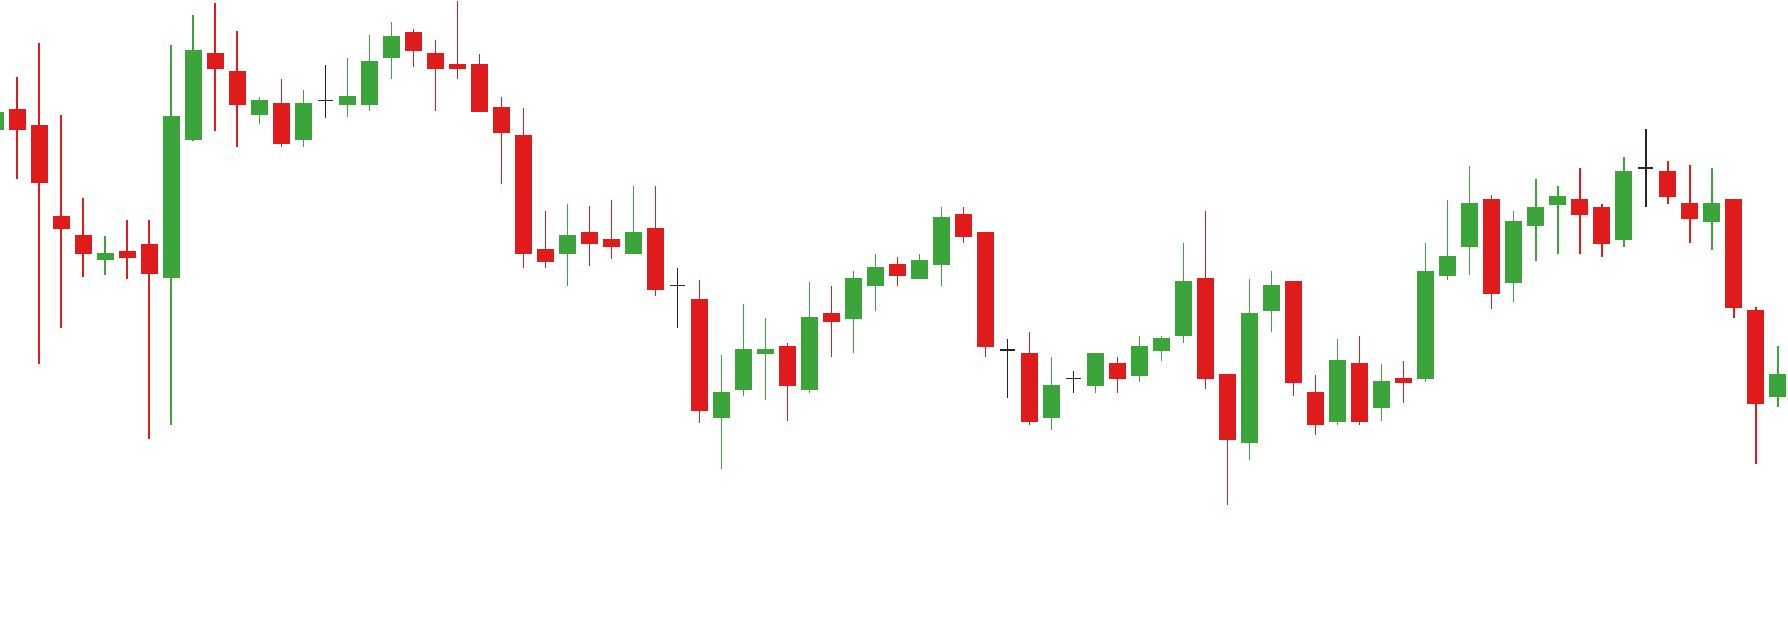buy: (1017, 332, 1261, 509)
